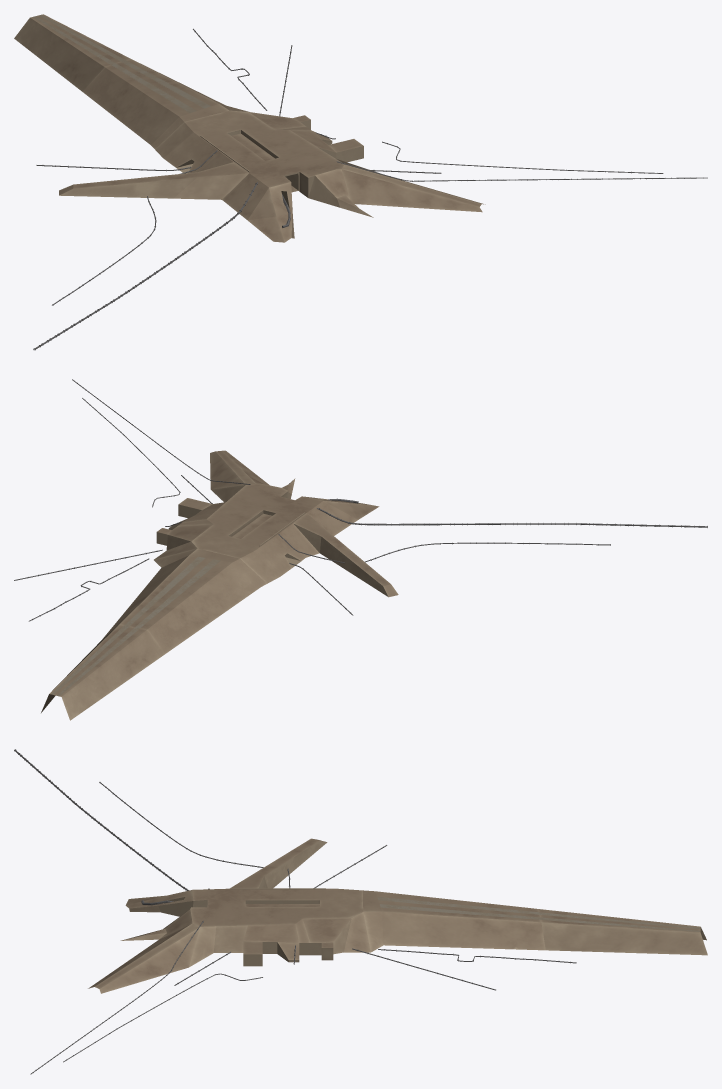
The model's file is Plateforme_Decollage.fbx.
The picture shows the model from 3 angles, top to bottom: view 1: azimuth 30°, elevation 25°; view 2: azimuth 150°, elevation 25°; view 3: azimuth 270°, elevation 25°; orthographic projection. The views are drawn at different scales.
Visible parts, largest first — view 1: Plateforme_Decollage; view 2: Plateforme_Decollage; view 3: Plateforme_Decollage.
Part boxes in pixels (x1,y1,x2,y2): Plateforme_Decollage: (14, 14, 707, 350); Plateforme_Decollage: (14, 379, 707, 720); Plateforme_Decollage: (14, 749, 707, 1074).
Size of the model in its own units: 75390 by 5423 by 68350.
